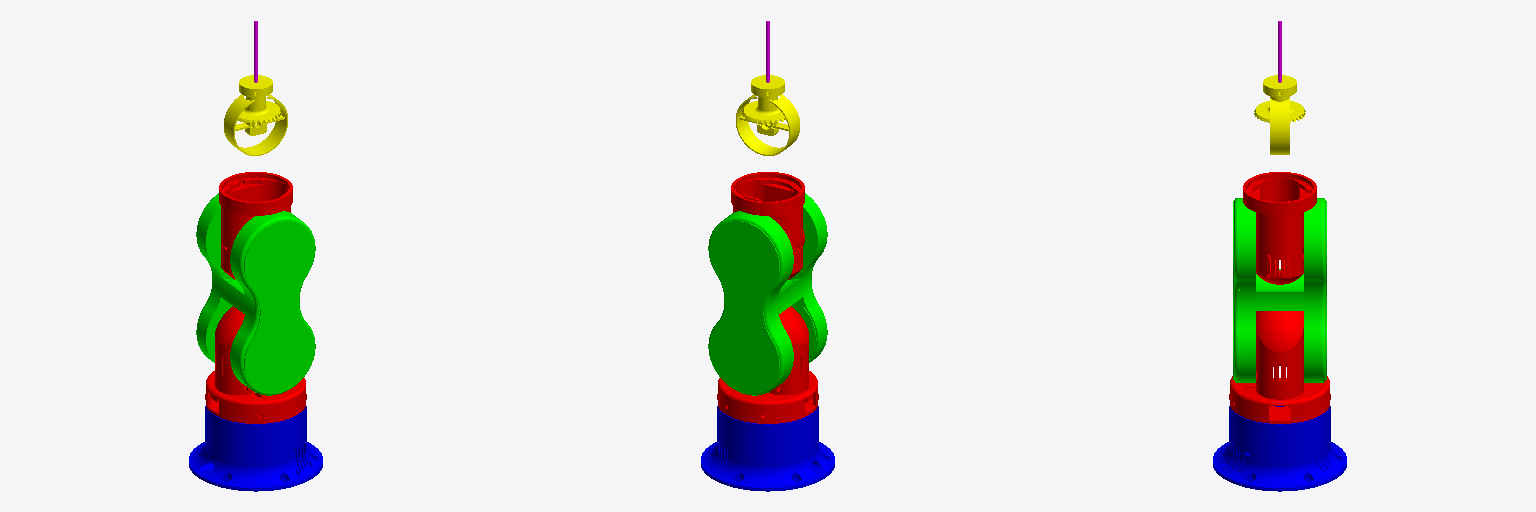
The robot description file, URDF, robot "THOR":
<?xml version="1.0"?>
<robot name="THOR" xmlns:xacro="http://ros.org/wiki/xacro">

  <!-- Link 0 (base link) -->
  <link name="base">
    <visual>
      <origin xyz="0 0 0" rpy="0 0 0"/>
      <geometry>
        <mesh filename="package://thor_description/meshes/base_thor.stl" scale="0.001 0.001 0.001"/>
      </geometry>
      <material name="base_material">
        <color rgba="0.0 0.0 1.0 1.0"/>
      </material>
    </visual>
  </link>

  <!-- Joint 1 -->
  <joint name="art1_yaw" type="revolute">
    <origin xyz="0 0 0.099" rpy="0 0 0"/>
    <axis xyz="0 0 1"/>
    <parent link="base"/>
    <child link="art1"/>
    <limit lower="-3.14159265358979" upper="3.14159265358979" effort="1" velocity="1.5707963267948966"/>
  </joint>

  <!-- Link 1 (joint 1 link) -->
  <link name="art1">
    <visual>
      <origin xyz="0 0 0" rpy="0 0 0"/>
      <geometry>
        <mesh filename="package://thor_description/meshes/art1_thor.stl" scale="0.001 0.001 0.001"/>
      </geometry>
      <material name="art1_material">
        <color rgba="1.0 0.0 0.0 1.0"/>
      </material>
    </visual>
  </link>
  
  <!-- Joint 2 (frames 0, 1) -->
  <joint name="art2_pitch" type="revolute">
    <origin xyz="0 0.0 0.104" rpy="0 0 0"/>
    <axis xyz="0 1 0"/>
    <parent link="art1"/>
    <child link="art2"/>
    <limit lower="-1.5707963267948966" upper="1.5707963267948966" effort="1" velocity="1.5707963267948966"/>
  </joint>

  <!-- Link 2 (joint 2 link) -->
  <link name="art2">
    <visual>
      <origin xyz="0 0 0" rpy="0 0 0"/>
      <geometry>
        <mesh filename="package://thor_description/meshes/art2_thor.stl" scale="0.001 0.001 0.001"/>
      </geometry>
      <material name="art2_material">
        <color rgba="0.0 1.0 0.0 1.0"/>
      </material>   
    </visual>
  </link>

  <!-- Joint 3 (frame 2, 3) -->
  <joint name="art3_pitch" type="revolute">
    <origin xyz="0.0 0 0.160" rpy="0 0 0"/>
    <axis xyz="0 1 0"/>
    <parent link="art2"/>
    <child link="art3"/>
    <limit lower="-1.5707963267948966" upper="1.5707963267948966" effort="1" velocity="1.5707963267948966"/>
  </joint>

  <!-- Link 3 (joint 3 link) -->
  <link name="art3">
    <visual>
      <origin xyz="0 0 0" rpy="0 0 0"/>
      <geometry>
        <mesh filename="package://thor_description/meshes/art3_thor.stl" scale="0.001 0.001 0.001"/>
      </geometry>
      <material name="art3_material">
        <color rgba="1.0 0.0 0.0 1.0"/>
      </material>
    </visual>
  </link>
  
  <!-- Joint 4 -->
  <joint name="art4_yaw" type="revolute">
    <origin xyz="0 0 0.089" rpy="0 0 0"/>
    <axis xyz="0 0 1"/>
    <parent link="art3"/>
    <child link="art4"/>
    <limit lower="-3.14159265358979" upper="3.14159265358979" effort="1" velocity="1.5707963267948966"/>
  </joint>

  <!-- Link 4 (joint 4 link) -->
  <link name="art4">
    <visual>
      <origin xyz="0 0 0" rpy="0 0 0"/>
      <geometry>
        <mesh filename="package://thor_description/meshes/art4_thor.stl" scale="0.001 0.001 0.001"/>
      </geometry>
      <material name="art4_material">
        <color rgba="0.0 0.0 1.0 1.0"/>
      </material>   
    </visual>
  </link>

  <!-- Joint 5 (frames 4, 5) -->
  <joint name="art5_pitch" type="revolute">
    <origin xyz="0 0 0.105" rpy="0 0 0"/>
    <axis xyz="0 1 0"/>
    <parent link="art4"/>
    <child link="art5"/>
    <limit lower="-1.5707963267948966" upper="1.5707963267948966" effort="1" velocity="1.5707963267948966"/>
  </joint>

  <!-- Link 5 (joint 5 link) -->
  <link name="art5">
    <visual>
      <origin xyz="0 0 0" rpy="0 0 0"/>
      <geometry>
        <mesh filename="package://thor_description/meshes/art5_thor.stl" scale="0.001 0.001 0.001"/>
      </geometry>
      <material name="art5_material">
        <color rgba="1.0 1.0 0.0 1.0"/>
      </material>
    </visual>
  </link>

  <!-- Joint 6 (frame 6) -->
  <joint name="art6_yaw" type="revolute">
    <origin xyz="0 0 0.067" rpy="0 0 0"/>
    <axis xyz="0 0 1"/>
    <parent link="art5"/>
    <child link="art6"/>
    <limit lower="-3.14159265358979" upper="3.14159265358979" effort="1" velocity="1.5707963267948966"/>
  </joint>

  <!-- Link 6 (joint 6 link) -->
  <link name="art6">
    <visual>
      <origin xyz="0 0 0" rpy="0 0 0"/>
      <geometry>
        <mesh filename="package://thor_description/meshes/art6_thor.stl" scale="0.001 0.001 0.001"/>
      </geometry>
      <material name="art6_material">
        <color rgba="1.0 1.0 0.0 1.0"/>
      </material>
    </visual>
  </link>

  <!-- End-effector frame -->
  <joint name="end_effector_joint" type="fixed">
    <origin xyz="0 0 0.1" rpy="0 0 0"/>
    <parent link="art6"/>
    <child link="end_effector"/>
  </joint>

  <!-- Link 7 (end-effector link) -->
  <link name="end_effector">
    <visual>
      <origin xyz="0 0 -0.1" rpy="0 0 0"/>
      <geometry>
        <mesh filename="package://thor_description/meshes/end_effector_thor.stl" scale="0.001 0.001 0.001"/>
        <!-- <cylinder radius="0.01" length="0.1"/> -->
      </geometry>
      <material name="end_effector_material">
        <color rgba="1.0 0.0 1.0 1.0"/>
      </material>
    </visual>
  </link>

</robot>

--- Facts derived from the render (not from the file) ---
Views: 3 orthographic renders of the robot side by side, from view 1: azimuth 30°, elevation 25°; view 2: azimuth 150°, elevation 25°; view 3: azimuth 270°, elevation 25°.
Model THOR with 8 links and 7 joints (6 revolute, 1 fixed), rooted at base, posed all joints at 0.
Visible links, largest first — view 1: art2, base, art1, art3, art5, art6; view 2: art2, base, art1, art3, art5, art6; view 3: art2, base, art1, art3, art6, art5.
Boxes of the visible links, x1,y1,x2,y2 form: art2: (196, 193, 315, 395); base: (189, 406, 322, 491); art1: (205, 306, 306, 423); art3: (219, 172, 292, 279); art5: (224, 95, 287, 155); art6: (237, 75, 281, 123); art2: (708, 193, 827, 395); base: (701, 406, 834, 491); art1: (717, 306, 818, 423); art3: (731, 172, 804, 279); art5: (736, 95, 799, 155); art6: (742, 75, 786, 123); art2: (1233, 198, 1326, 382); base: (1213, 406, 1346, 491); art1: (1229, 311, 1330, 423); art3: (1243, 172, 1316, 284); art6: (1254, 75, 1305, 122); art5: (1270, 98, 1289, 154).
Bounding box of the posed robot: 0.2 × 0.2 × 0.724 m (x, y, z).
7 mesh visuals loaded from 8 distinct referenced files (7 binary STL); not drawn: 1 (reference not matched to a file when rendering).
